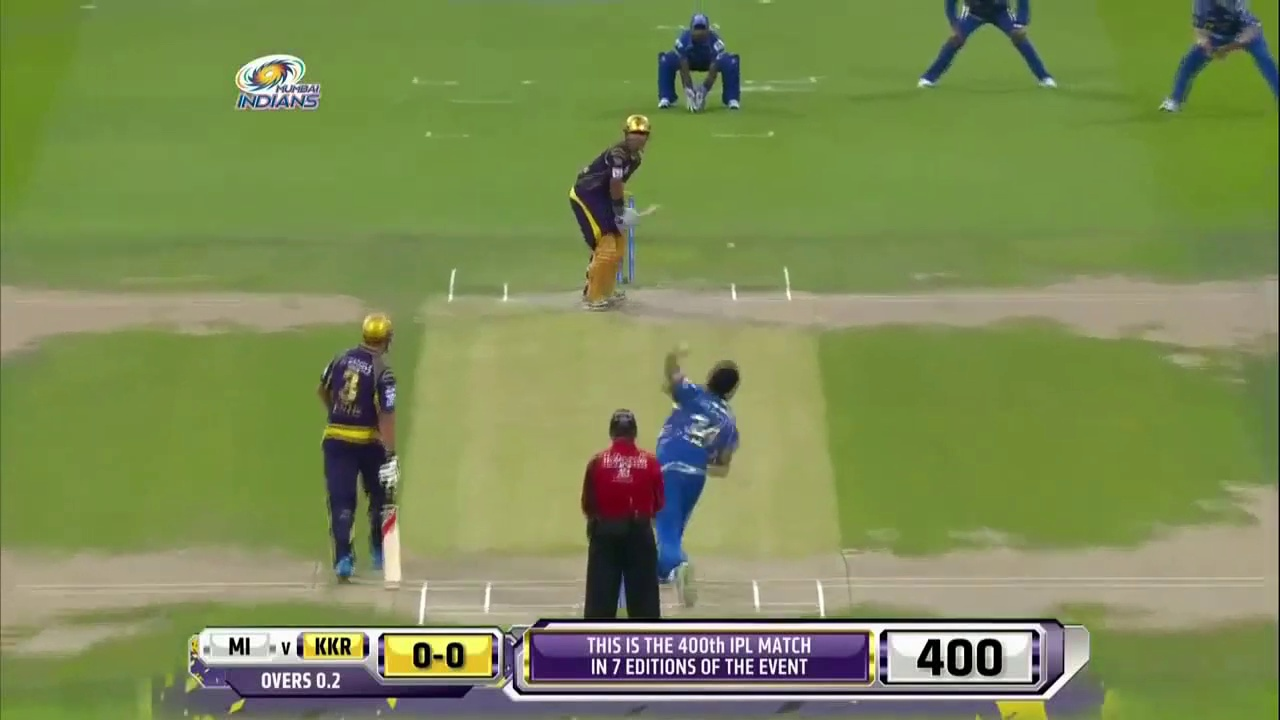bat: (382, 511, 403, 582)
